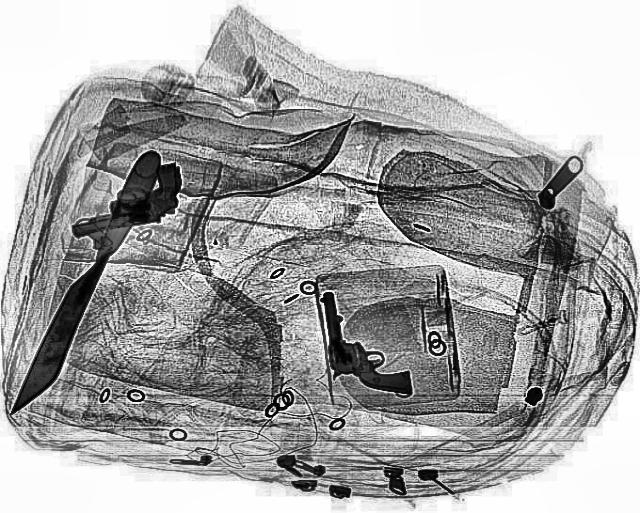Gun: (55, 161, 197, 237), (318, 288, 412, 398)
Knife: (4, 146, 168, 418)
